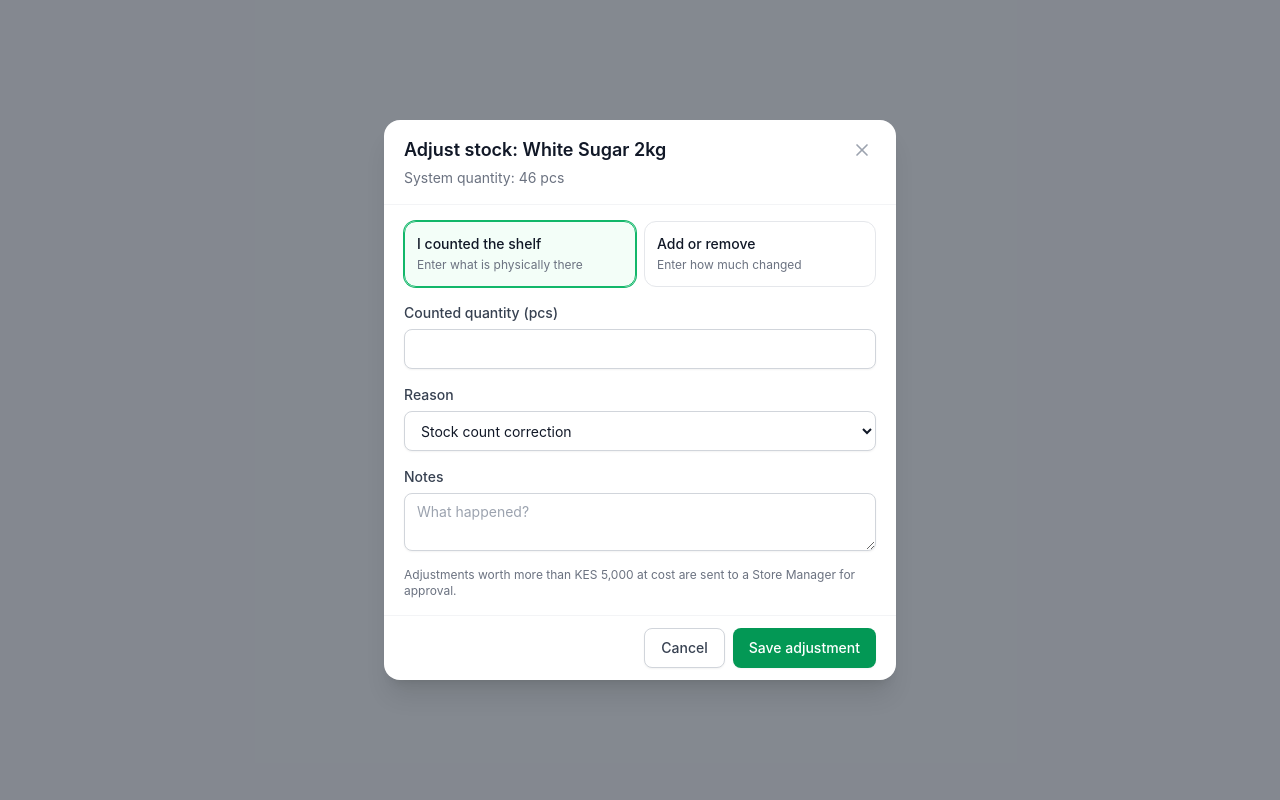
Test case: AdjustStockModal › warns about negative stock and only offers the override to super admins
Click the text "Add or remove" at (706, 244), box [657, 235, 756, 252]
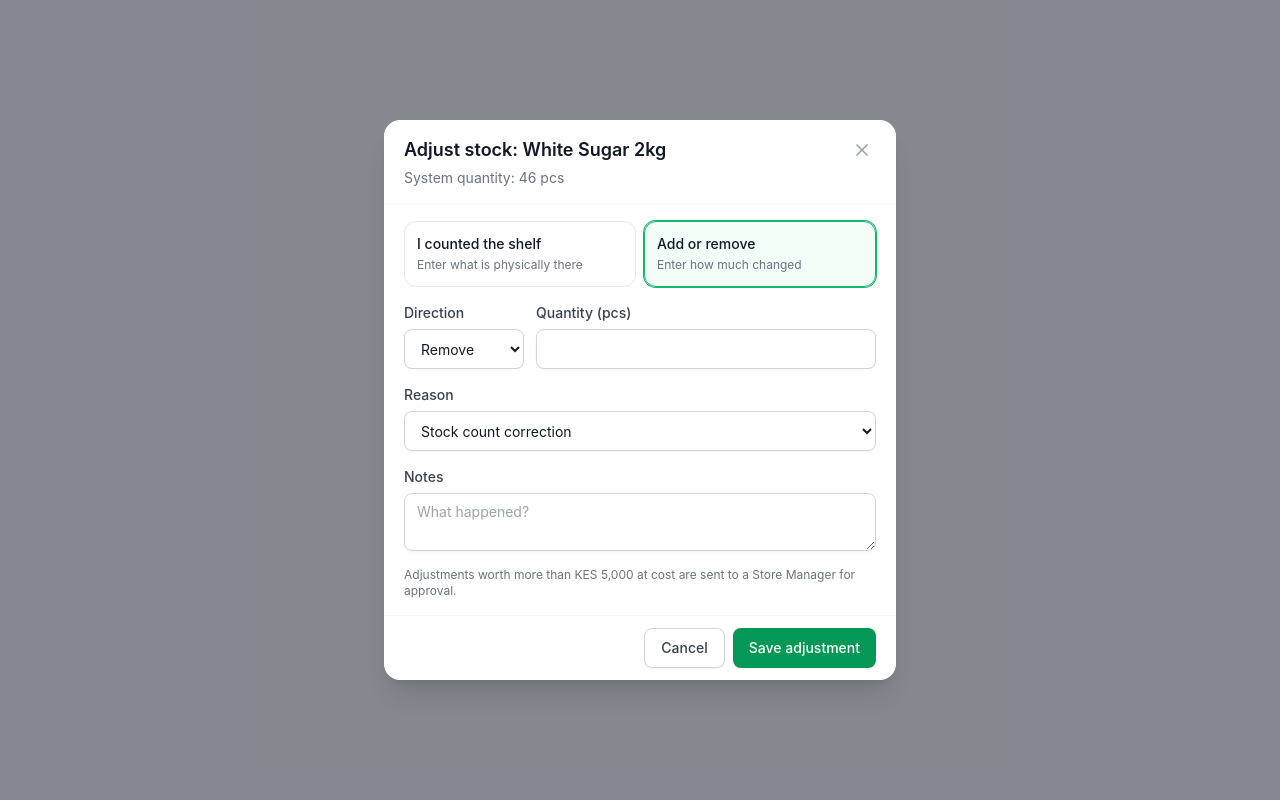
Type "50" into the field labelled "Quantity (pcs)" at (706, 349), box [536, 329, 876, 369]
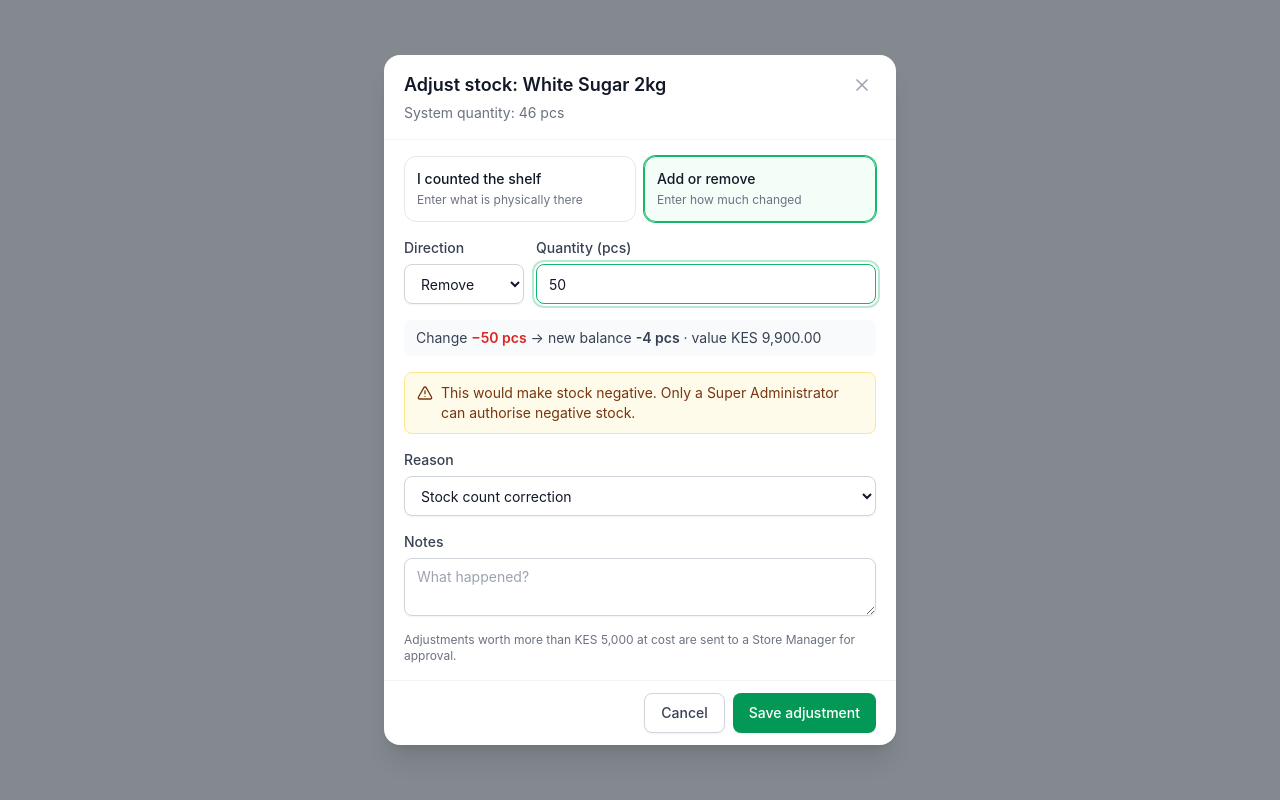
Check: the text "Only a Super Administrator" is shown, box [441, 384, 839, 421]
